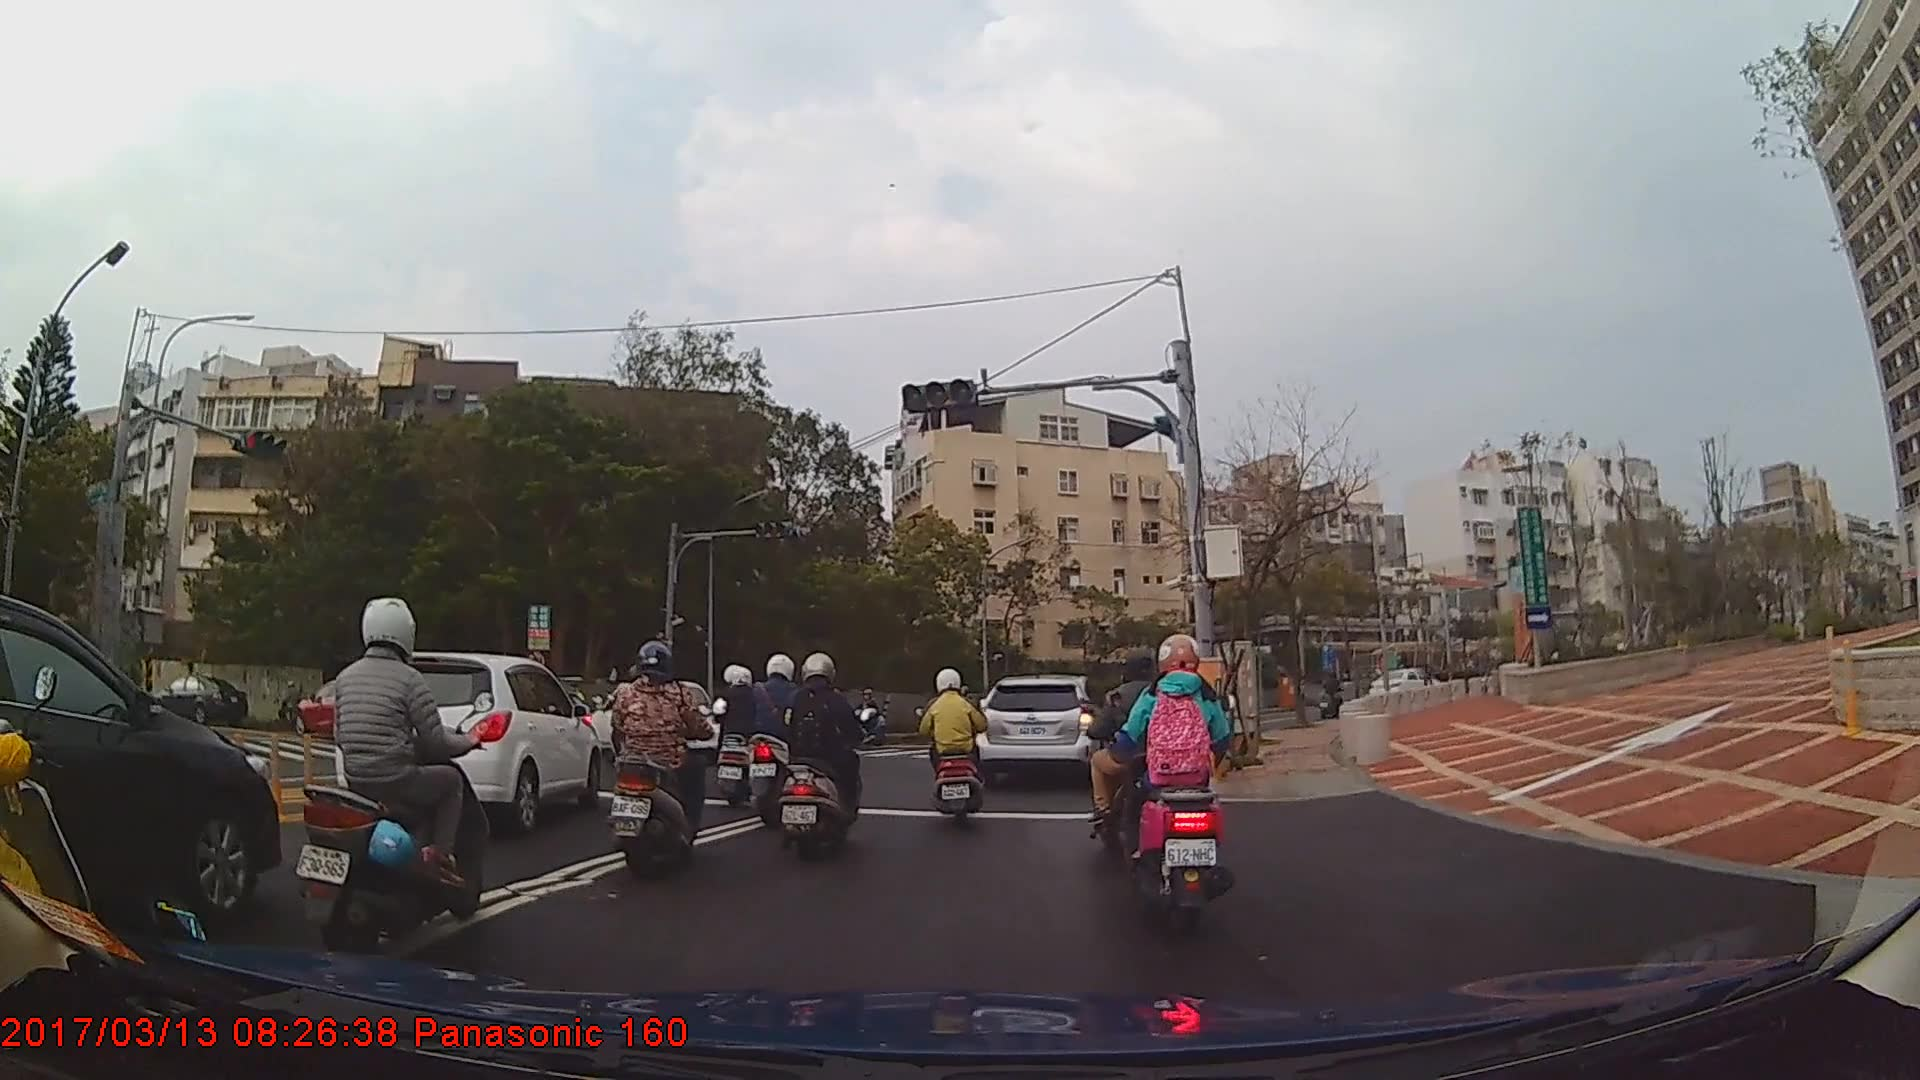rider: (294, 595, 495, 958), (1119, 633, 1236, 926), (601, 640, 717, 887), (1081, 642, 1189, 859), (777, 649, 873, 865), (743, 651, 819, 826), (918, 667, 997, 824), (714, 667, 776, 806), (855, 688, 890, 747)
vehicle: (0, 593, 281, 922), (333, 649, 597, 839), (976, 673, 1118, 788), (294, 676, 396, 736), (145, 674, 249, 728), (1370, 669, 1439, 700)
